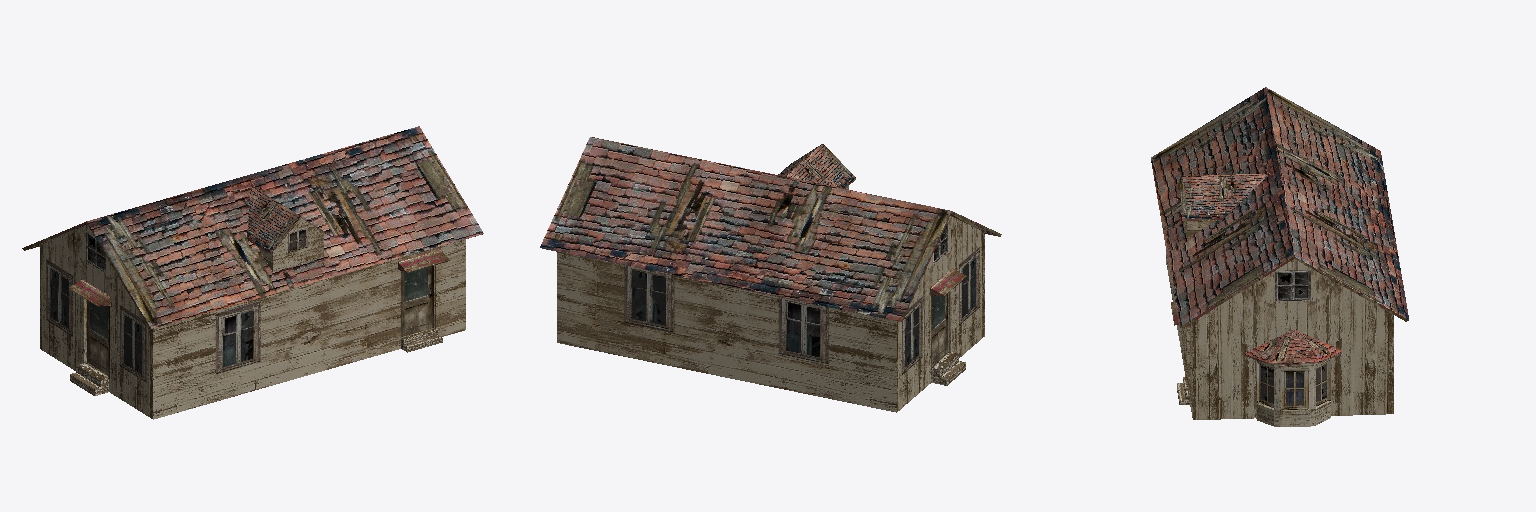
3 views of the same model, side by side, from view 1: azimuth 30°, elevation 25°; view 2: azimuth 150°, elevation 25°; view 3: azimuth 270°, elevation 25° (orthographic).
Visible parts, largest first — view 1: CubeCube; view 2: CubeCube; view 3: CubeCube.
Part boxes in pixels (left/top/right/bottom): CubeCube: left=22, top=126, right=483, bottom=419; CubeCube: left=540, top=137, right=1001, bottom=412; CubeCube: left=1151, top=87, right=1408, bottom=426.
Size of the model in its own units: 33.93 by 14.67 by 20.74.
Materials: 1 (1 with a texture image).